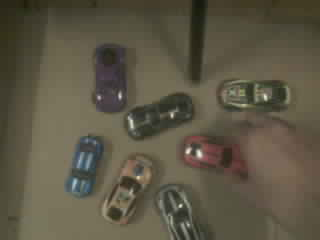Car: (103, 154, 154, 223), (125, 93, 194, 139), (154, 184, 206, 239), (182, 135, 246, 176), (65, 134, 104, 197), (219, 80, 289, 110), (95, 44, 126, 111), (120, 192, 134, 217)
